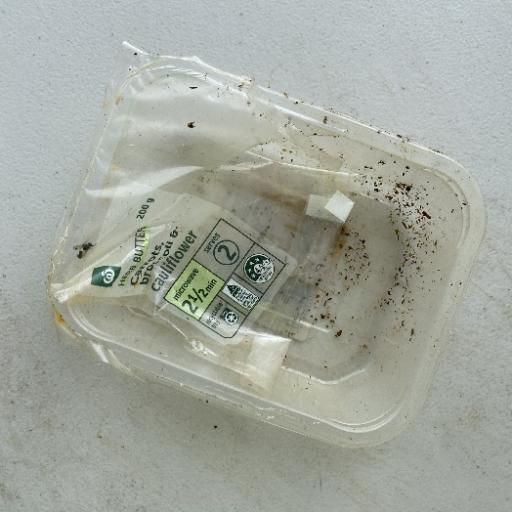Plastic: (44, 40, 487, 449)
